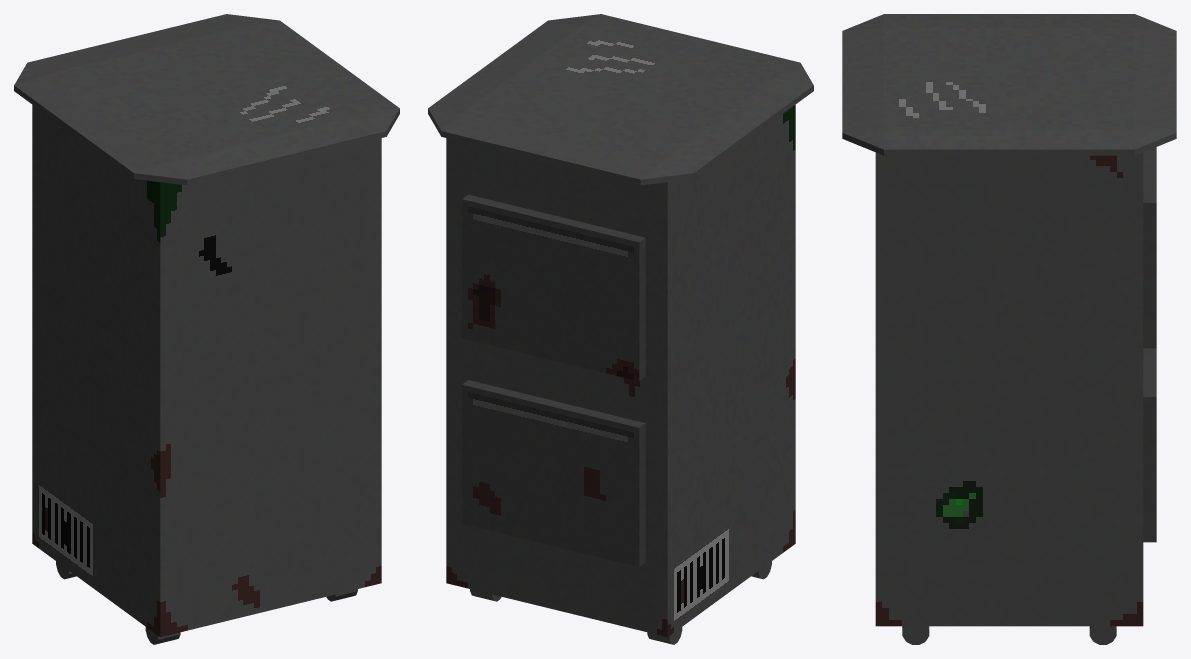
The model's file is DoubleStackFilingCabnet.gltf.
3 renders of one model, left to right at view 1: azimuth 30°, elevation 25°; view 2: azimuth 150°, elevation 25°; view 3: azimuth 270°, elevation 25°, orthographic. The views are drawn at different scales.
Visible parts, largest first — view 1: cylinder; view 2: cylinder, DrawTop, DrawBottom; view 3: cylinder, DrawTop, DrawBottom.
Boxes of the visible parts, <box> form: cylinder: <box>14,14,399,644</box>; cylinder: <box>428,14,813,644</box>; DrawTop: <box>462,194,645,381</box>; DrawBottom: <box>462,380,645,566</box>; cylinder: <box>842,14,1176,644</box>; DrawTop: <box>1143,147,1156,348</box>; DrawBottom: <box>1143,348,1156,542</box>.
Size of the model in its own units: 0.75 by 1.33 by 0.7812.
3 materials, 3 textured.
